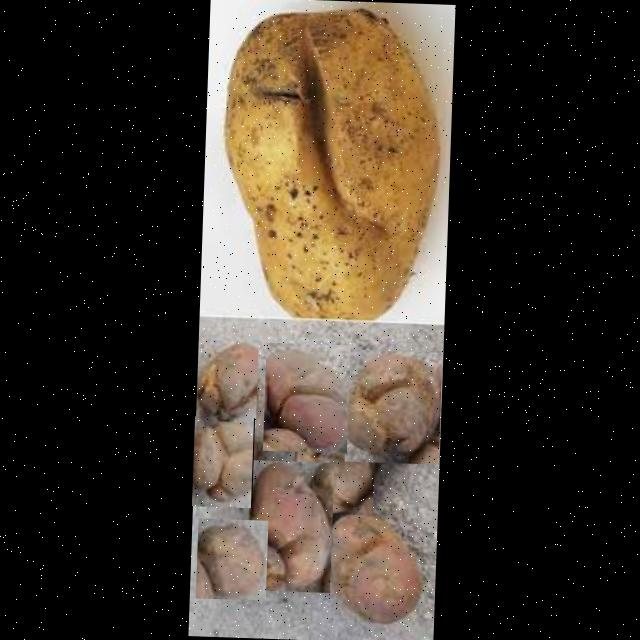Damaged potato: (210, 1, 447, 326), (322, 510, 426, 632), (245, 460, 333, 592), (343, 349, 441, 464), (262, 342, 350, 453), (291, 428, 374, 515), (195, 326, 258, 428), (194, 518, 267, 600), (190, 416, 253, 508)
